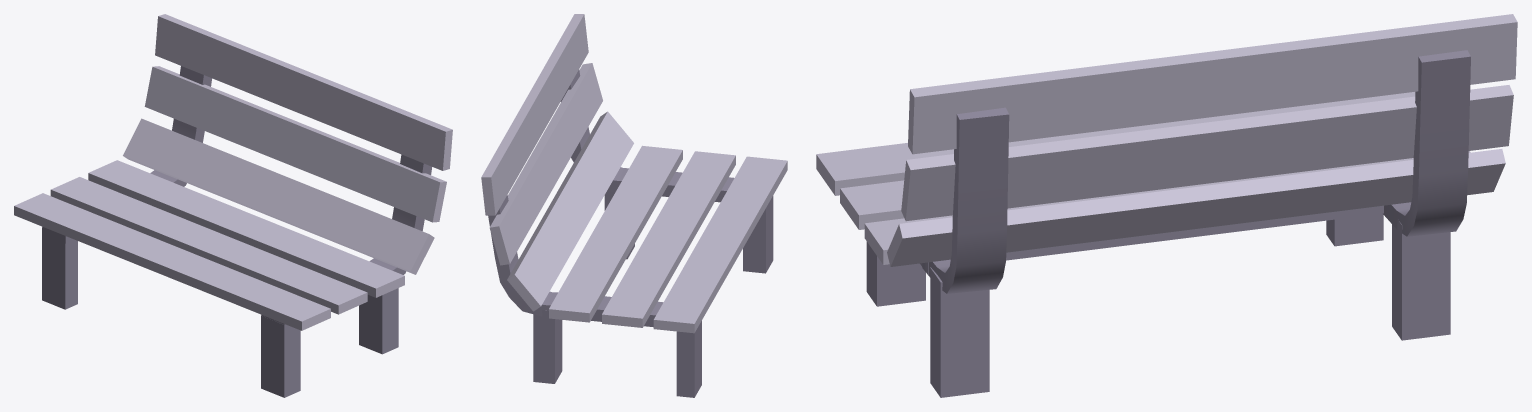
Rendered from Park_bank (1).fbx.
The picture shows the model from 3 angles, left to right: view 1: azimuth 30°, elevation 25°; view 2: azimuth 150°, elevation 25°; view 3: azimuth 270°, elevation 25°; orthographic projection. The views are drawn at different scales.
Parts seen in each view (by area): view 1: pCube24; view 2: pCube24; view 3: pCube24.
Boxes of the visible parts, x1,y1,x2,y2 form: pCube24: (14, 14, 452, 397); pCube24: (481, 14, 787, 397); pCube24: (816, 14, 1517, 397).
Size of the model in its own units: 7.68 by 5.6 by 10.54.
